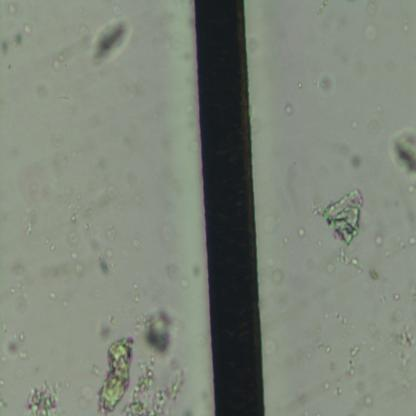Background material: (94, 334, 134, 414), (130, 356, 184, 415), (314, 188, 365, 244), (90, 12, 133, 69), (137, 304, 179, 359), (25, 376, 66, 414), (17, 158, 49, 206), (391, 322, 416, 372), (391, 126, 416, 173), (0, 22, 32, 56), (0, 326, 29, 362), (39, 259, 72, 288), (94, 173, 116, 213), (70, 192, 92, 230), (336, 247, 366, 274), (164, 261, 190, 289), (51, 134, 70, 166), (96, 246, 115, 277), (345, 344, 362, 378), (314, 69, 336, 95), (74, 379, 94, 407), (258, 333, 278, 361), (265, 257, 285, 285), (29, 76, 49, 103), (62, 224, 85, 246), (103, 218, 121, 245), (383, 233, 408, 252), (69, 249, 84, 278), (9, 280, 29, 301), (321, 376, 343, 395), (322, 310, 347, 326), (50, 51, 67, 73), (41, 236, 60, 255), (363, 21, 379, 43), (366, 114, 380, 138), (361, 392, 375, 413), (314, 1, 329, 18), (403, 213, 416, 232), (317, 340, 332, 354), (284, 99, 294, 120), (350, 155, 362, 172), (366, 2, 377, 19), (23, 221, 35, 236), (368, 267, 380, 282), (404, 180, 416, 194), (296, 226, 308, 240), (6, 4, 19, 16), (325, 262, 334, 276), (374, 235, 384, 247), (373, 100, 382, 113), (47, 291, 57, 302), (407, 235, 416, 246), (130, 240, 140, 249), (392, 294, 401, 301)
Hair: (192, 1, 266, 415)
